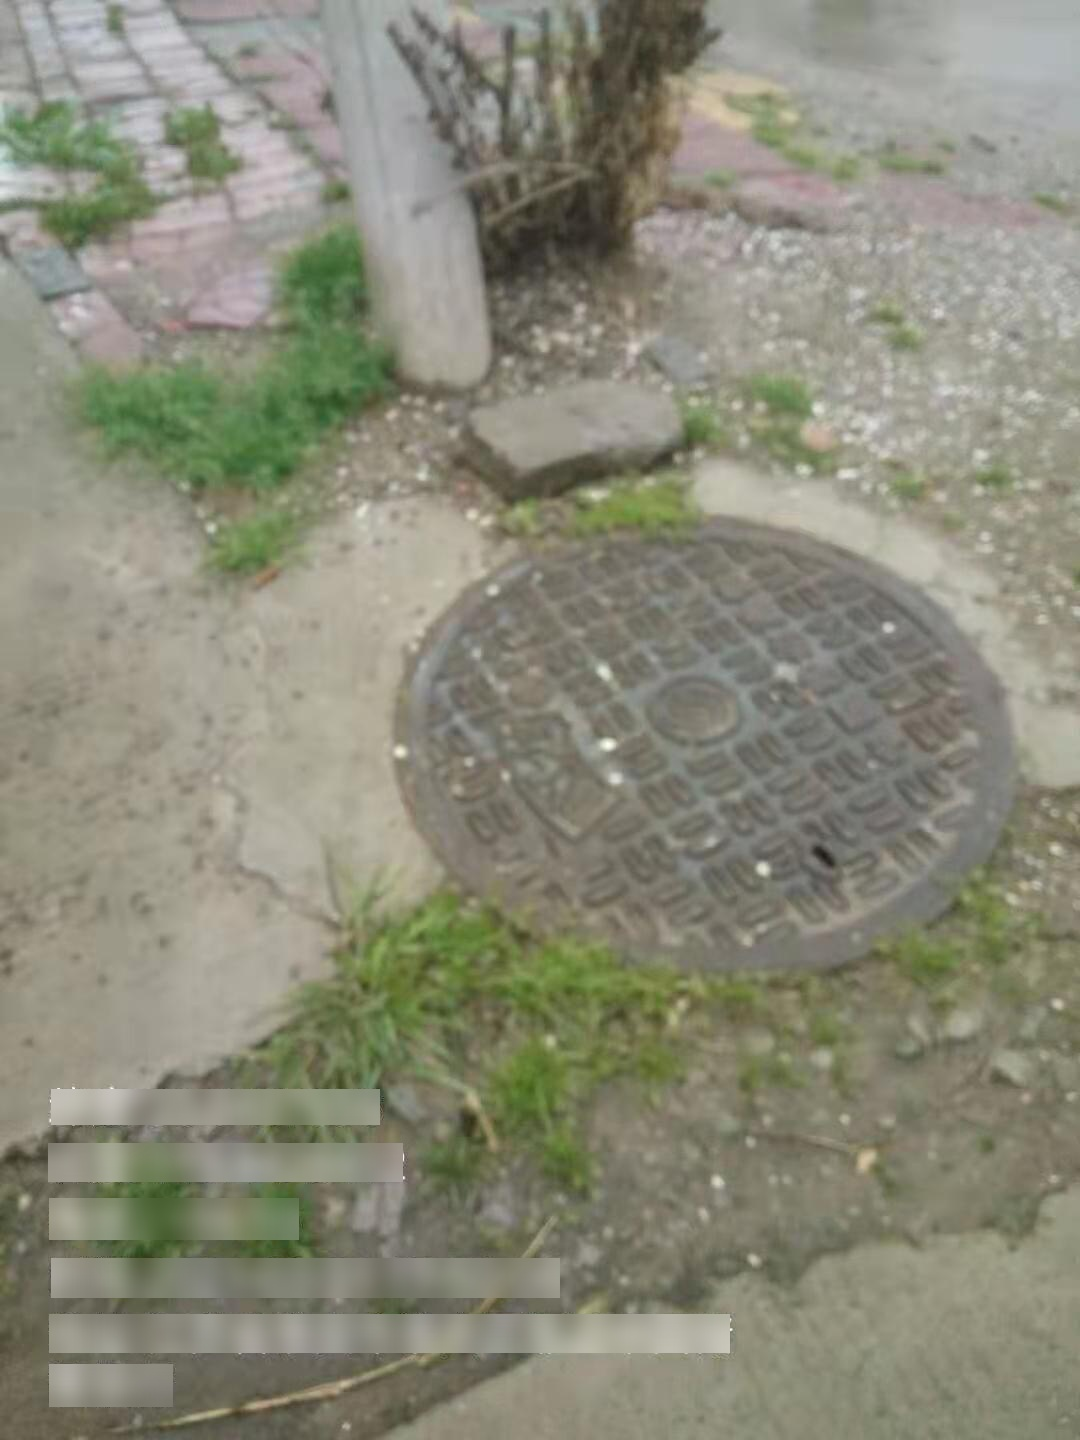good: (393, 515, 1019, 977)
